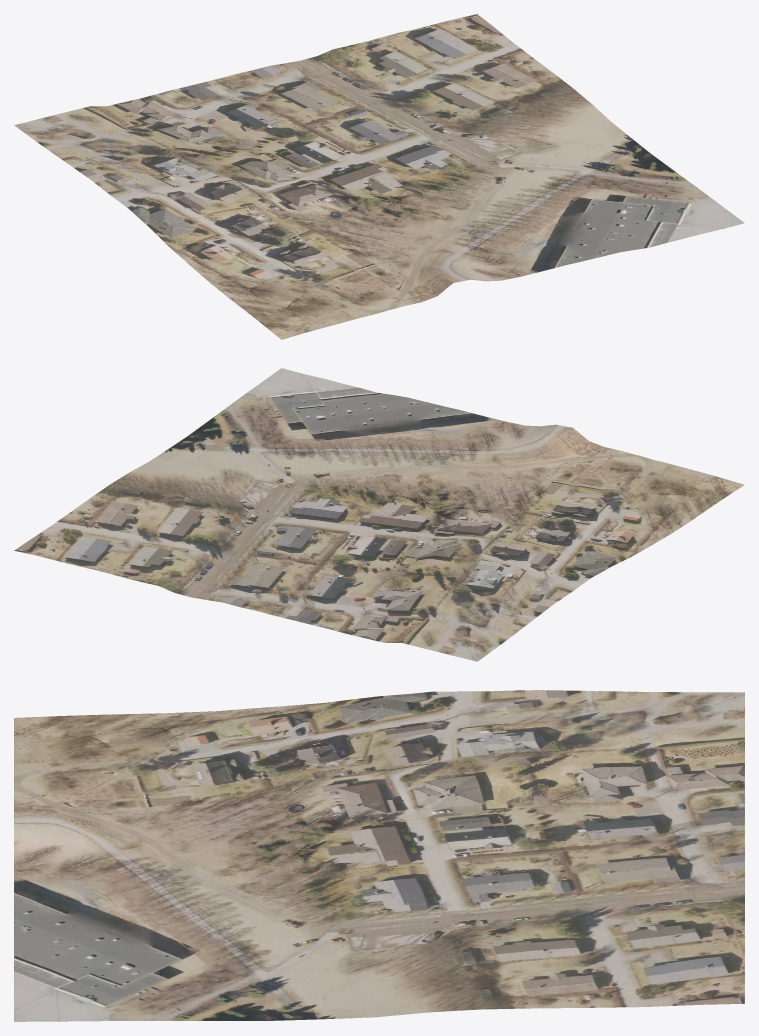
Rendered from CM_Terrain_24491278_6819999.fbx.
3 renders of one model, top to bottom at view 1: azimuth 30°, elevation 25°; view 2: azimuth 150°, elevation 25°; view 3: azimuth 270°, elevation 25°, orthographic. The views are drawn at different scales.
Visible parts, largest first — view 1: CM_Terrain_24491278_6819999_LOD0; view 2: CM_Terrain_24491278_6819999_LOD0; view 3: CM_Terrain_24491278_6819999_LOD0.
Boxes of the visible parts, x1,y1,x2,y2 form: CM_Terrain_24491278_6819999_LOD0: (14,14,744,339); CM_Terrain_24491278_6819999_LOD0: (14,368,744,661); CM_Terrain_24491278_6819999_LOD0: (14,690,744,1021).
Size of what is drawn, in the model's own units: 205 by 8.73 by 205.
